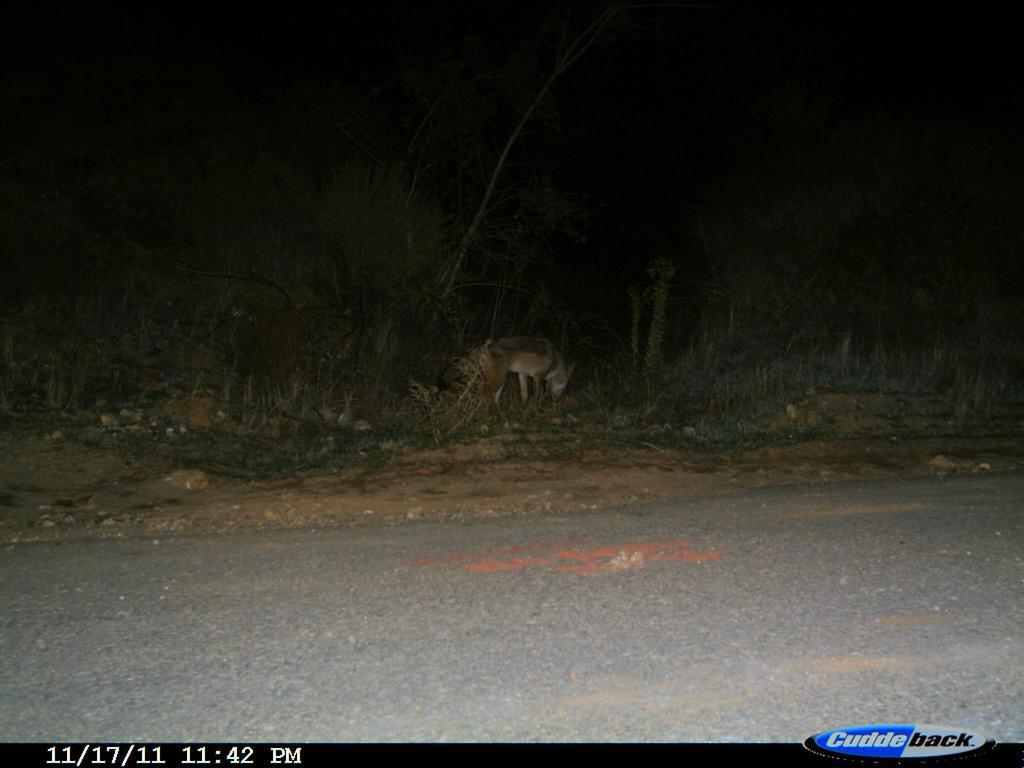coyote: (465, 329, 584, 417)
